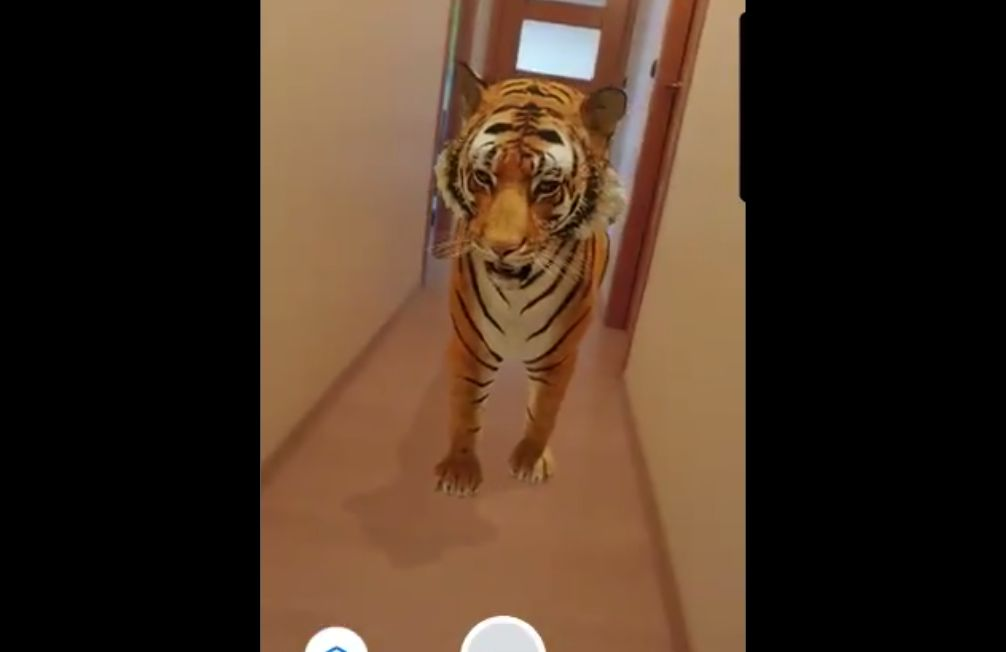Tigrew: (421, 36, 654, 504)
